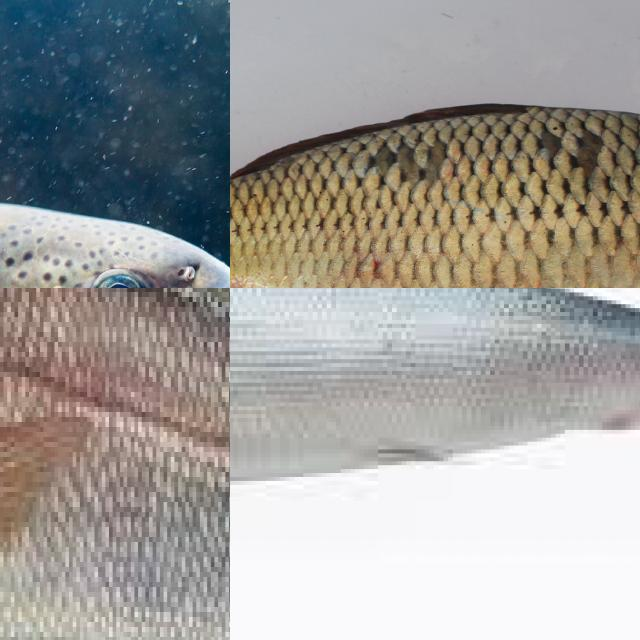fish: (230, 288, 640, 590), (230, 43, 640, 288), (0, 288, 230, 607), (0, 0, 230, 288)
